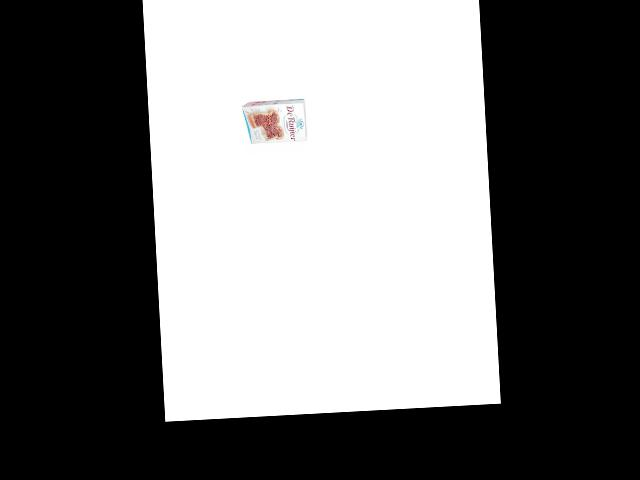chocolate: (243, 92, 311, 150)
